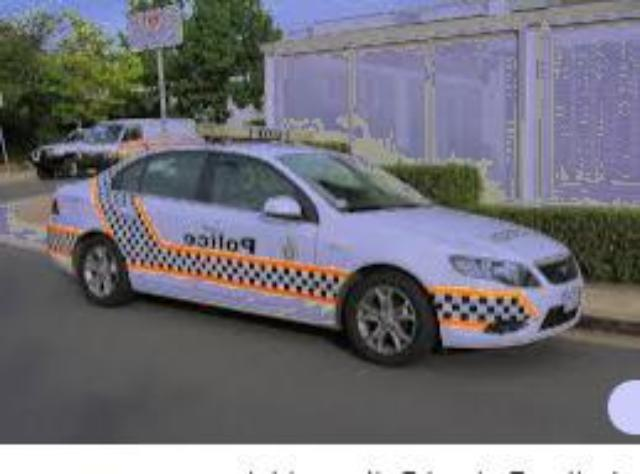police_car: (44, 128, 586, 368)
